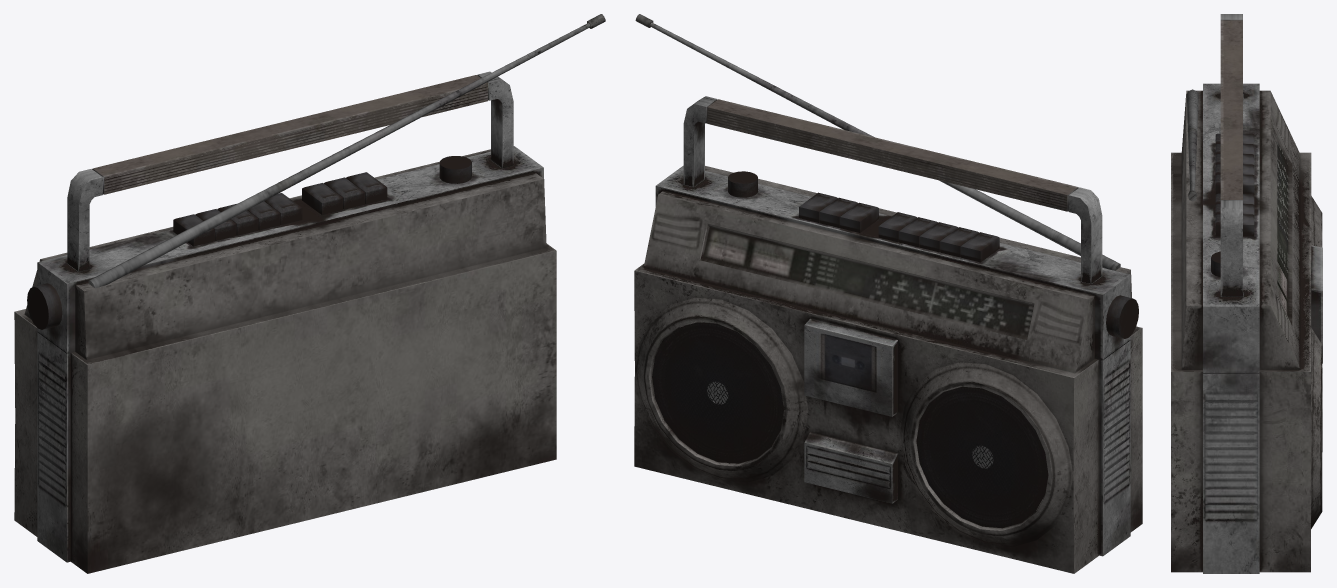
File: radio.glb
3 renders of one model, left to right at view 1: azimuth 30°, elevation 25°; view 2: azimuth 150°, elevation 25°; view 3: azimuth 270°, elevation 25°, orthographic. The views are drawn at different scales.
Visible parts, largest first — view 1: Radio_20 - Default_0; view 2: Radio_20 - Default_0; view 3: Radio_20 - Default_0.
Part boxes in pixels (x1,y1,x2,y2): Radio_20 - Default_0: (14, 14, 605, 573); Radio_20 - Default_0: (634, 14, 1142, 573); Radio_20 - Default_0: (1171, 14, 1322, 573).
Bounding box in the file's own units: 273 × 202 × 68.61.
Materials: 1 (1 with a texture image).
